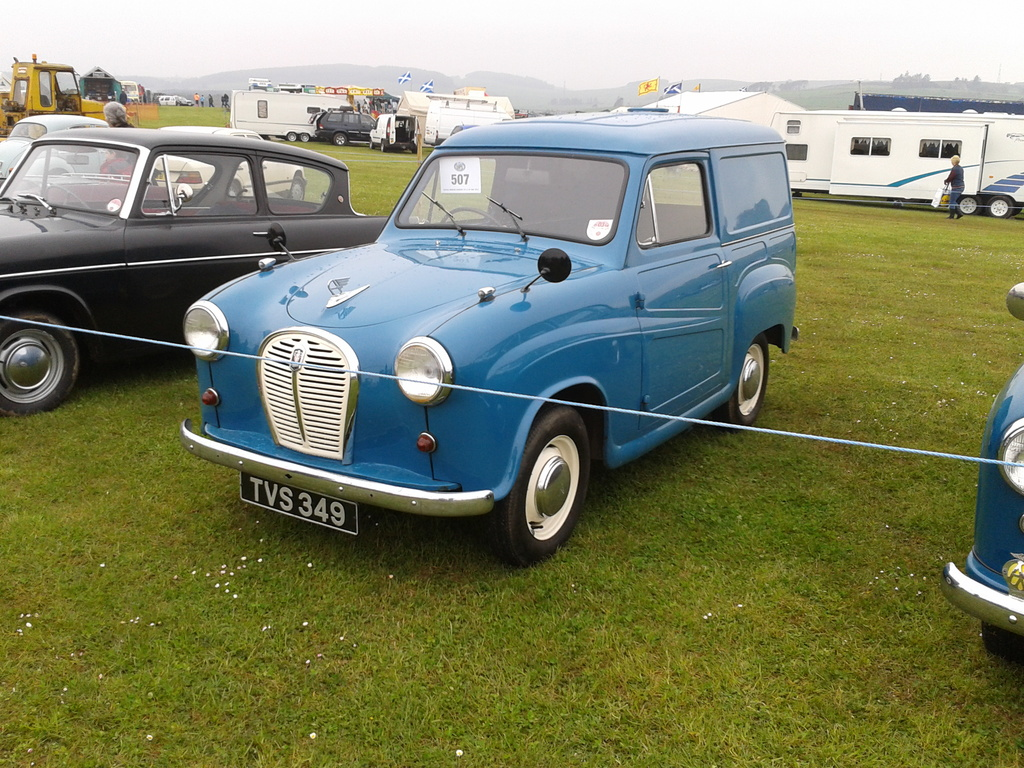cars: (181, 109, 801, 566), (0, 125, 418, 416), (937, 282, 1022, 654), (150, 125, 307, 200), (0, 112, 106, 194), (449, 121, 484, 134), (156, 95, 173, 107), (178, 96, 192, 105)
